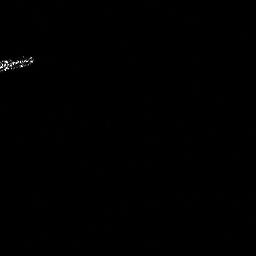ship: (1, 54, 35, 73)
